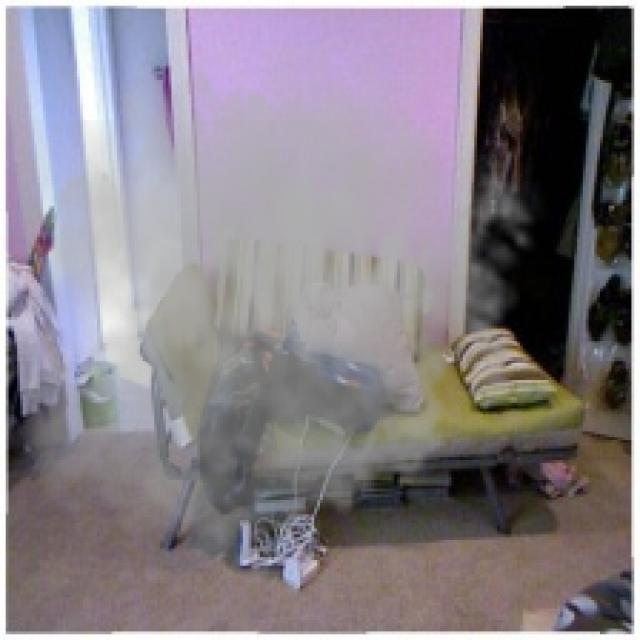smoke: (11, 23, 552, 577)
